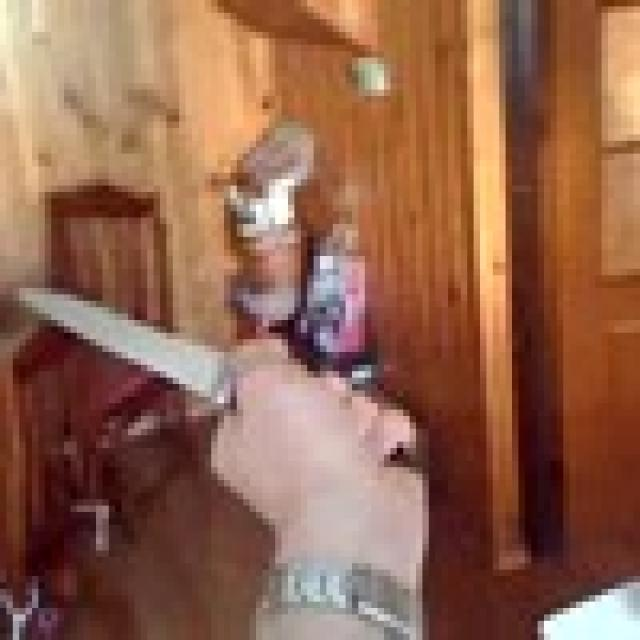Knife: (10, 282, 247, 422)
